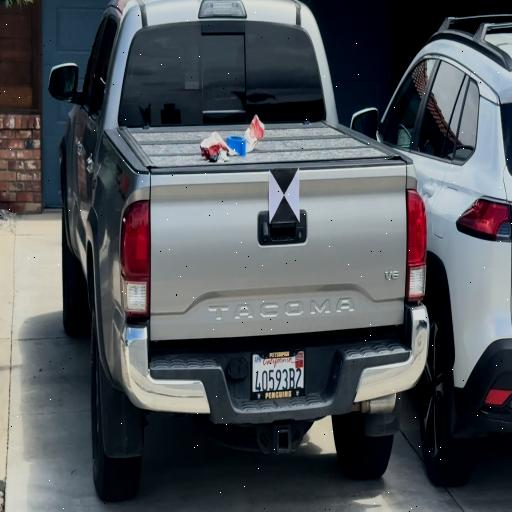target: (269, 168, 300, 222)
